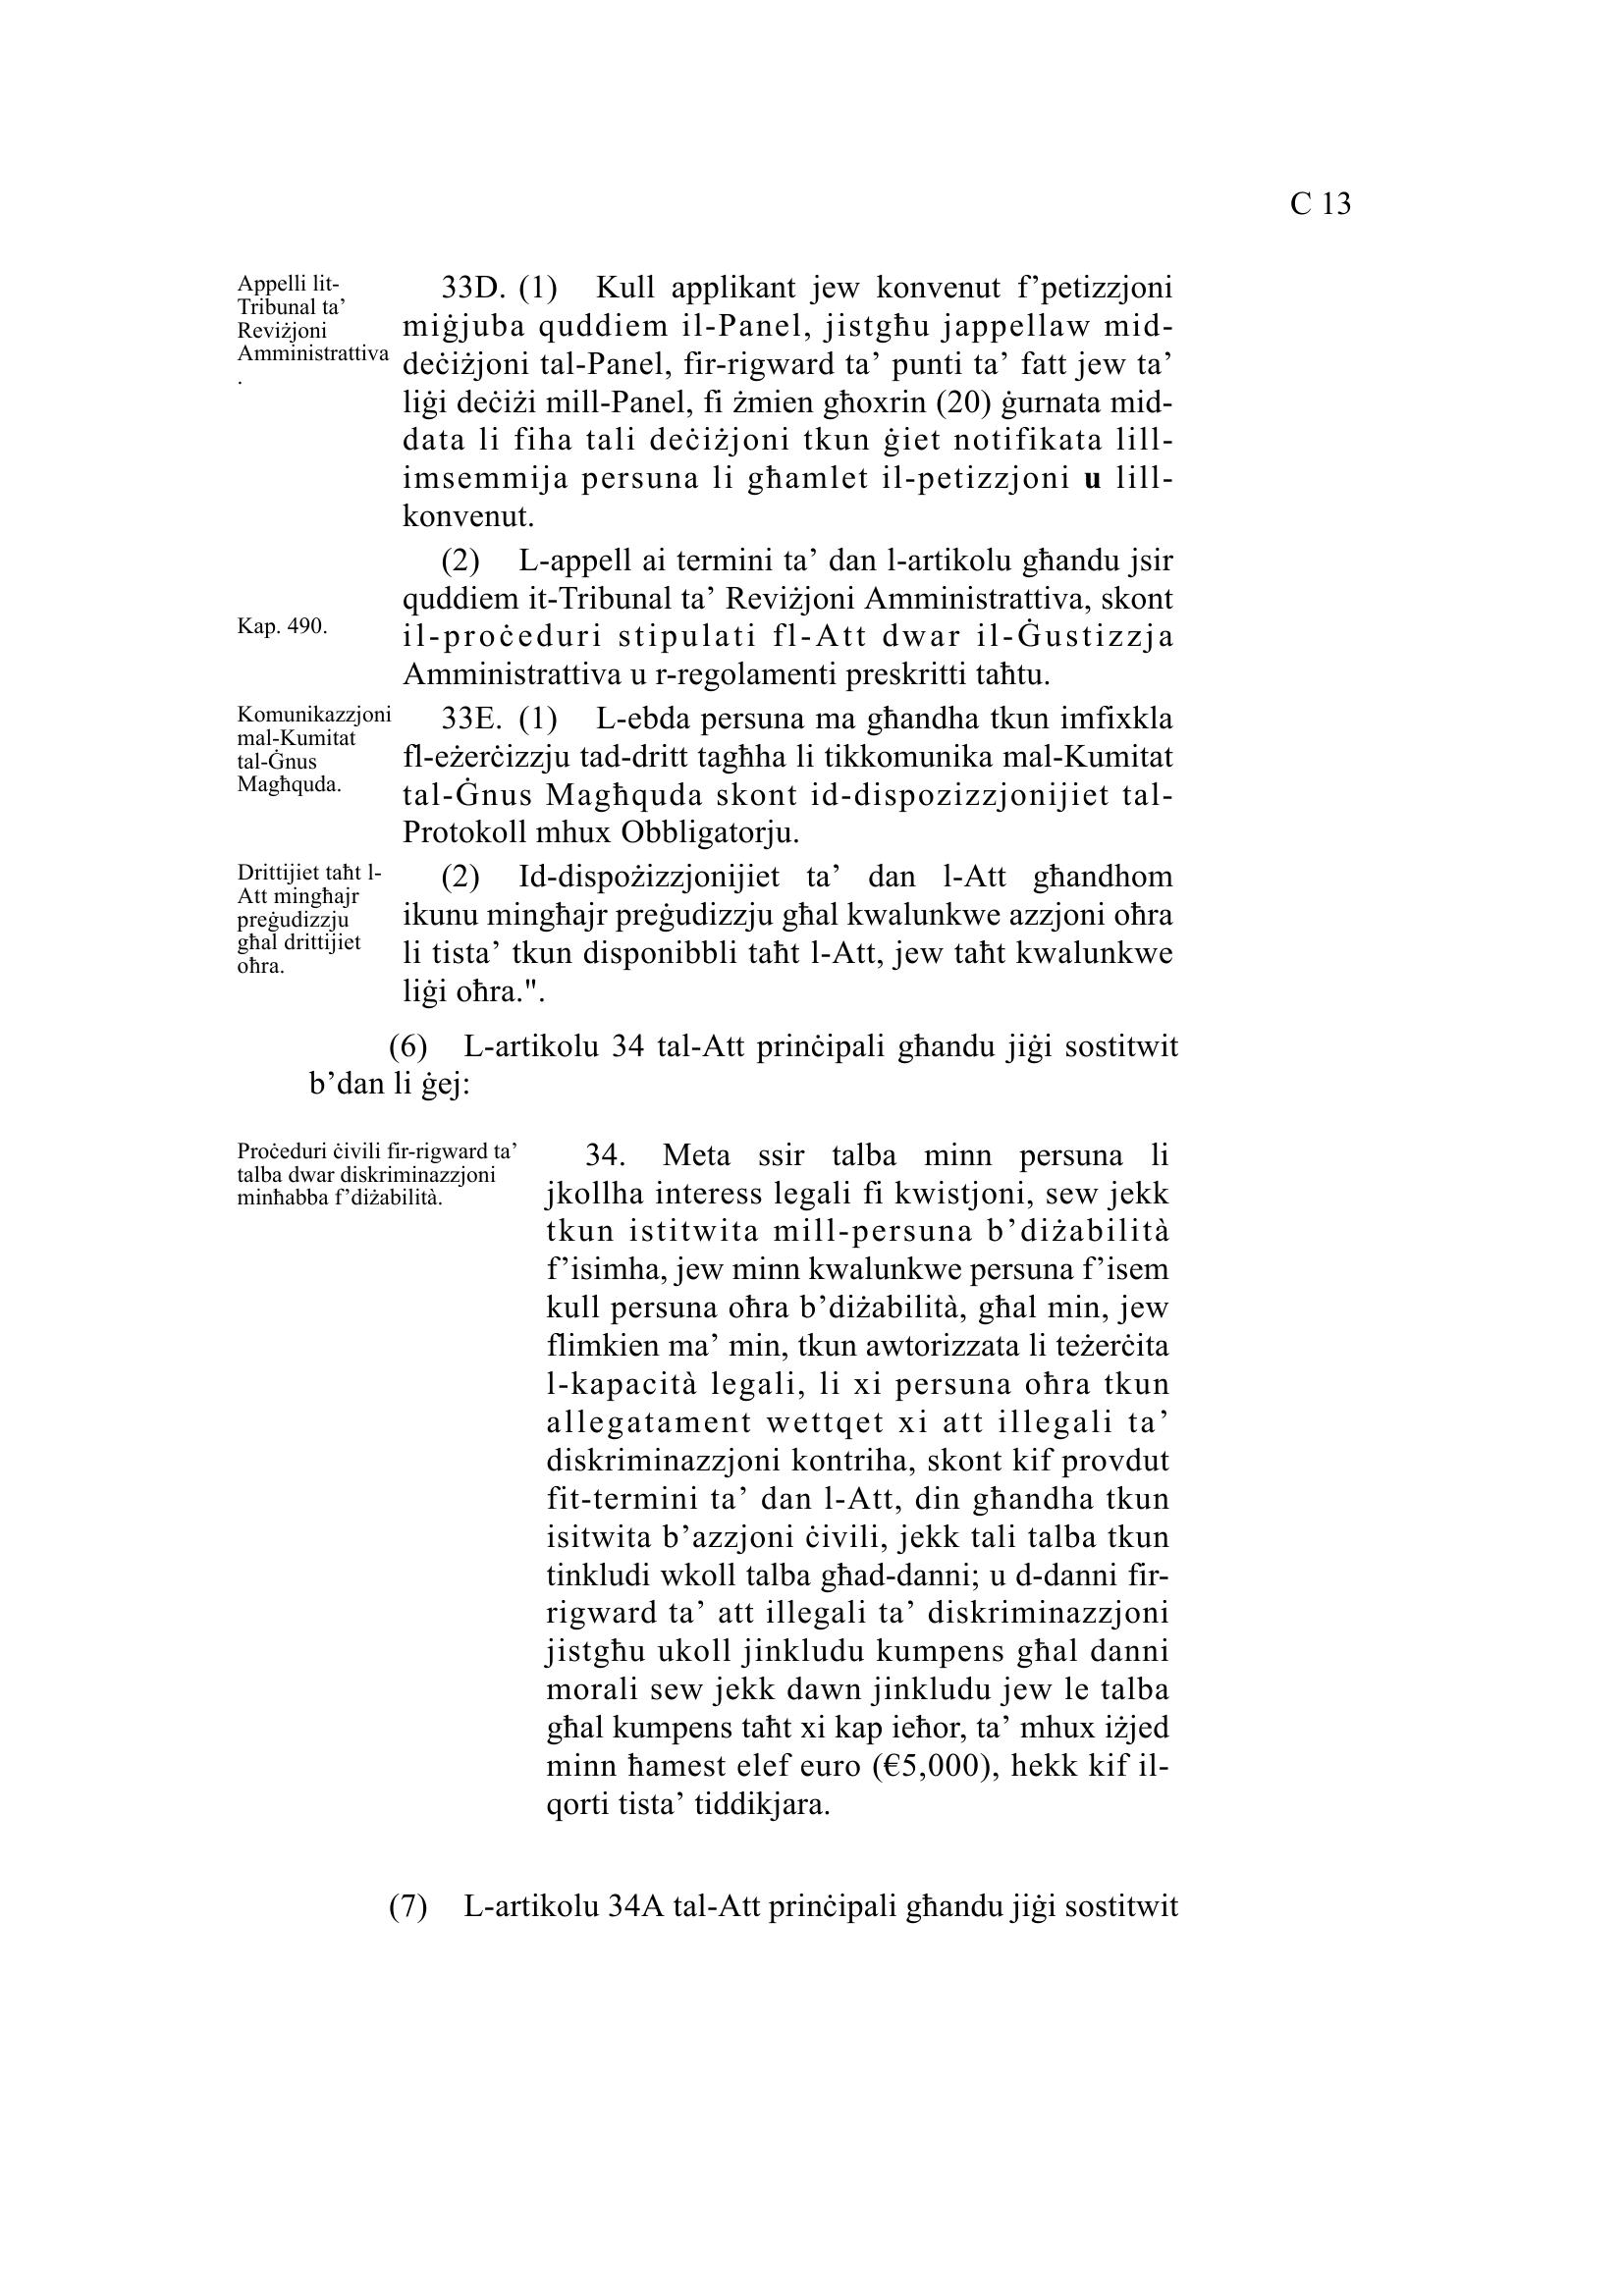text: (394, 262, 1190, 1015), (533, 1131, 1190, 1838), (302, 1026, 1190, 1112), (369, 1876, 1190, 1950)
